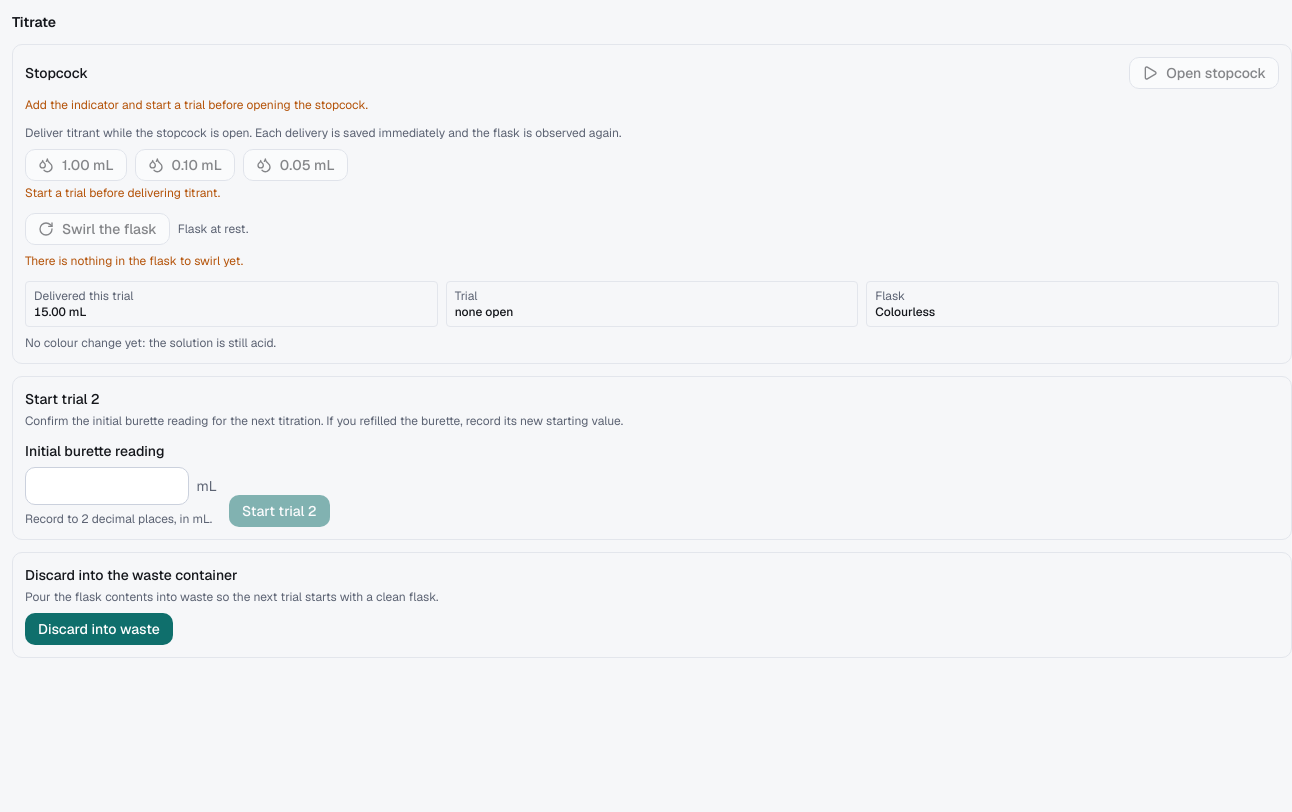
Test: preparation journey (jsdom) › discards a completed trial into waste before the next trial
Click the button "Discard into waste" at (99, 629), box [25,613,173,645]
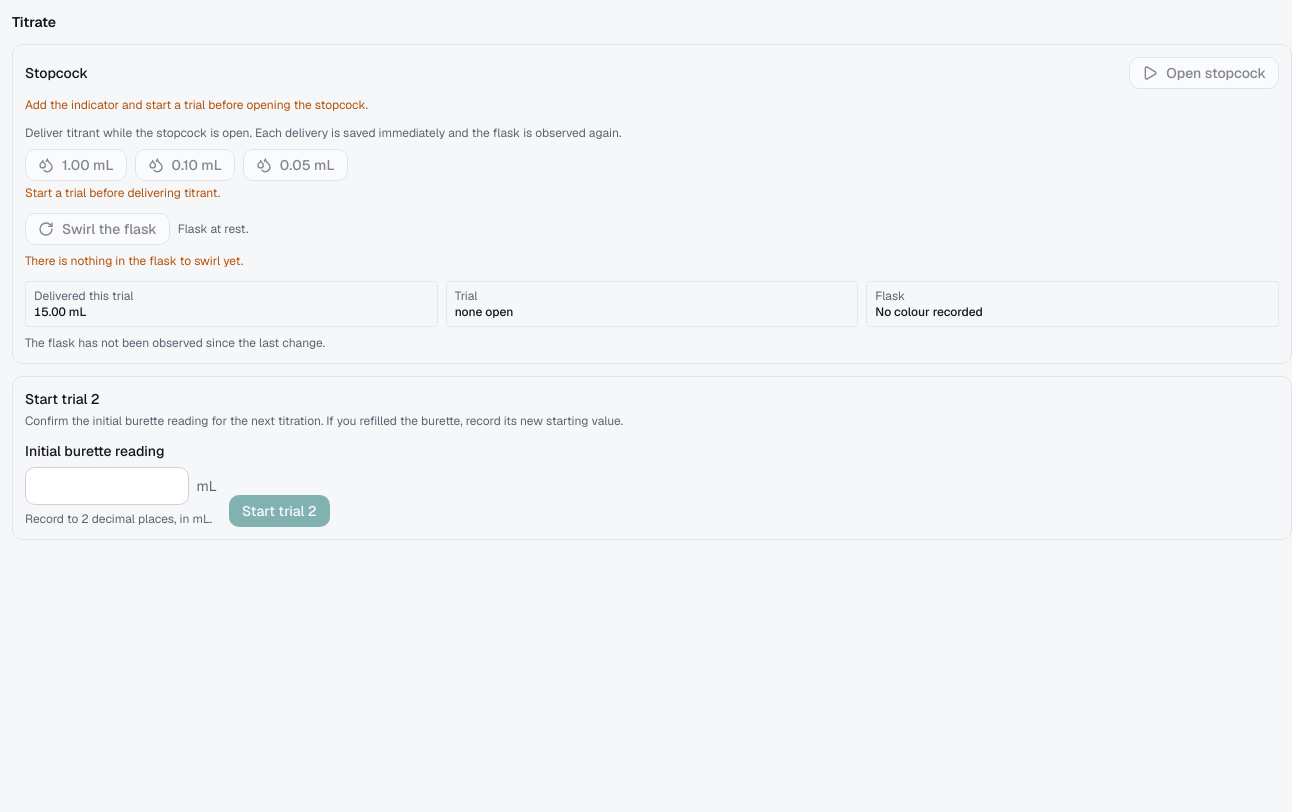
Check: the button "Discard into waste" is gone
